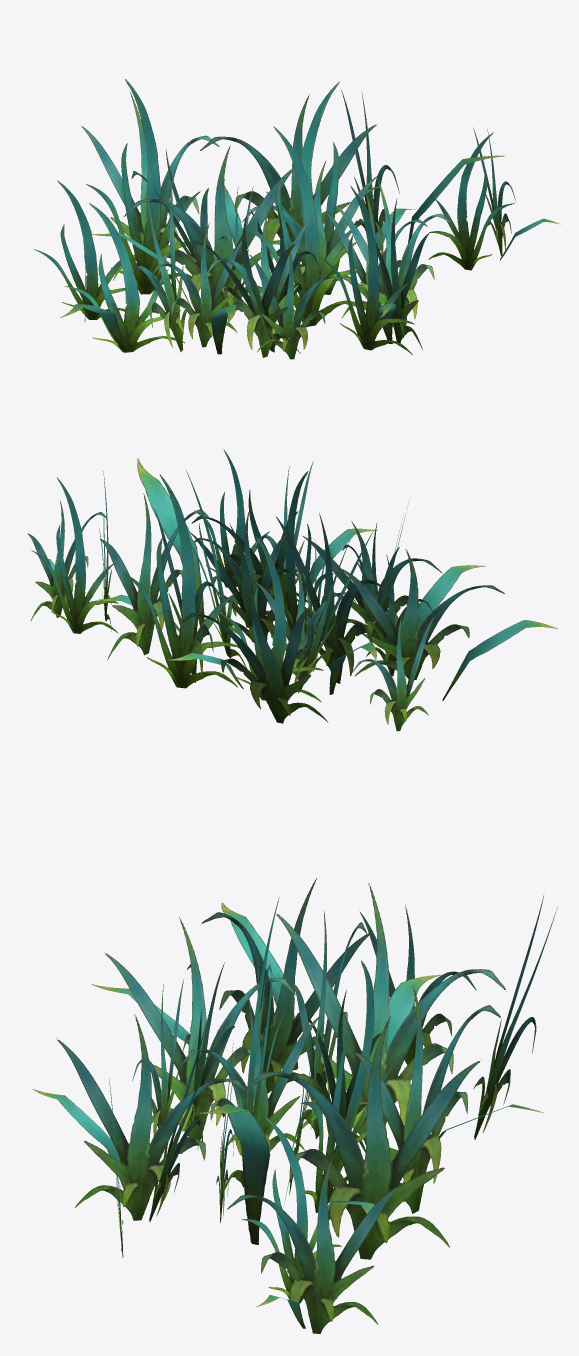
File: fb_lyhg_gm_01.FBX
3 views of the same model, one above another, from view 1: azimuth 30°, elevation 25°; view 2: azimuth 150°, elevation 25°; view 3: azimuth 270°, elevation 25° (orthographic). The views are drawn at different scales.
Visible parts, largest first — view 1: fb_qqs_gm_04; view 2: fb_qqs_gm_04; view 3: fb_qqs_gm_04.
Boxes of the visible parts, x1=… form: fb_qqs_gm_04: x1=34, y1=79, x2=560, y2=359; fb_qqs_gm_04: x1=27, y1=449, x2=557, y2=731; fb_qqs_gm_04: x1=32, y1=878, x2=557, y2=1333.
Size of the model in its own units: 275 by 116 by 179.
